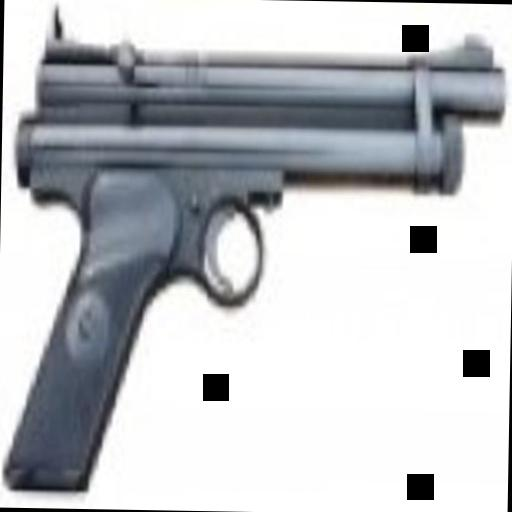Handgun: (1, 6, 508, 498)
